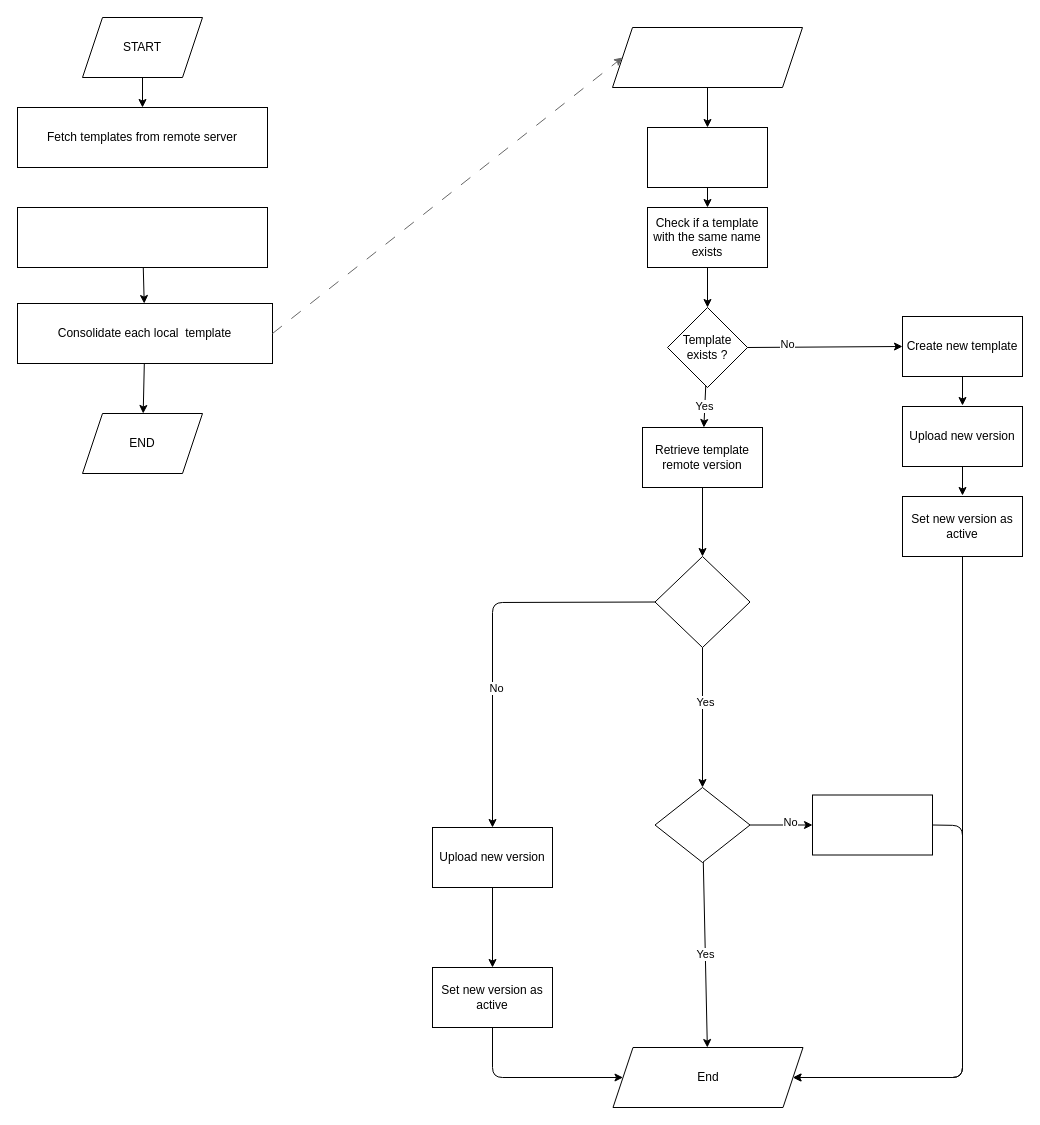
This 1040x1125 diagram has some shape labels left out. The centre of each missing label's shape, as x and y in pixels:
Active Id match version id ?: (702,824)
Extract template name from template directory: (707,157)
Fetch templates from local directory: (142,237)
Set existing template as active: (872,824)
Template consolidation start: (707,57)
Version exsists ?: (702,602)
